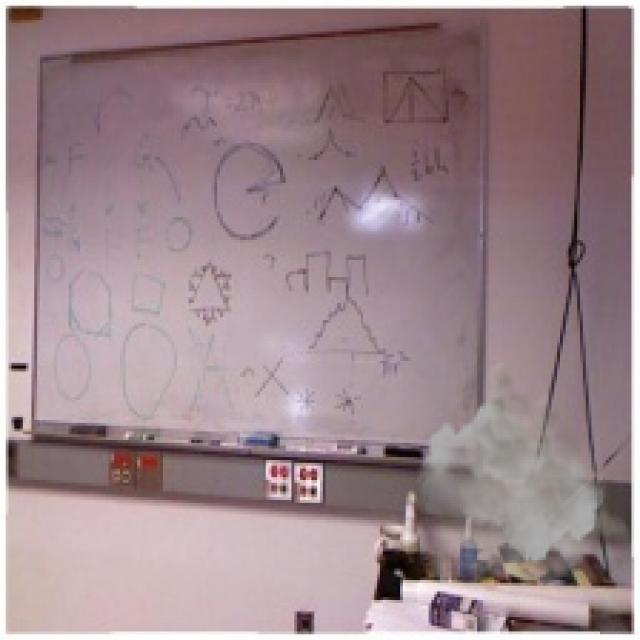smoke: (417, 357, 634, 594)
